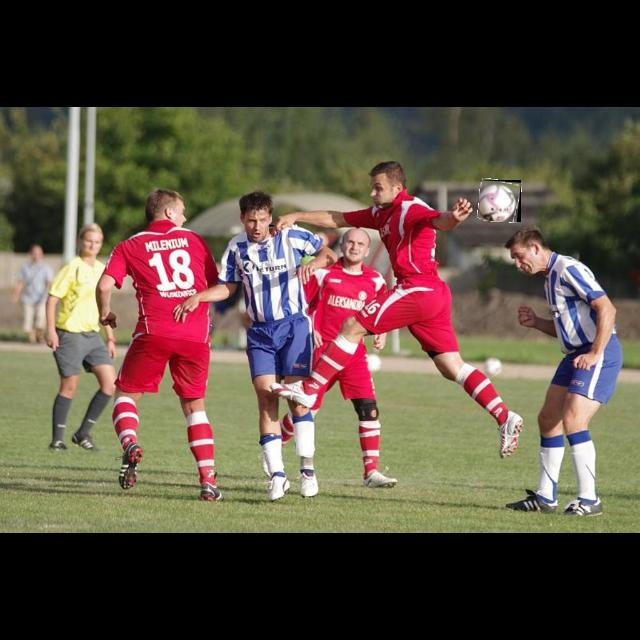Football: (479, 180, 521, 222)
